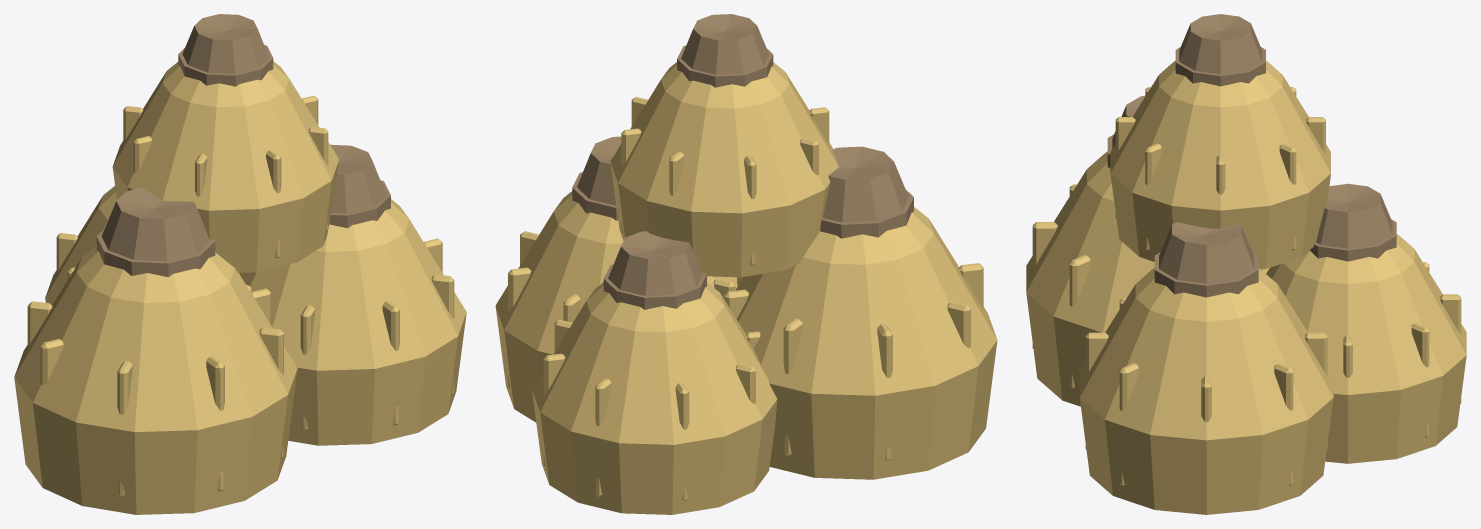
File: fantasy-mmo-city-and-townsfolk-grain-sack-pile-4be6b3ad__32762.glb
The picture shows the model from 3 angles, left to right: view 1: azimuth 30°, elevation 25°; view 2: azimuth 150°, elevation 25°; view 3: azimuth 270°, elevation 25°; orthographic projection.
Parts seen in each view (by area): view 1: grain-sack-pile; view 2: grain-sack-pile; view 3: grain-sack-pile.
Boxes of the visible parts, x1,y1,x2,y2 form: grain-sack-pile: (14,14,466,514); grain-sack-pile: (495,14,997,514); grain-sack-pile: (1026,14,1466,514).
Size of the model in its own units: 1.78 by 1.57 by 1.56.
